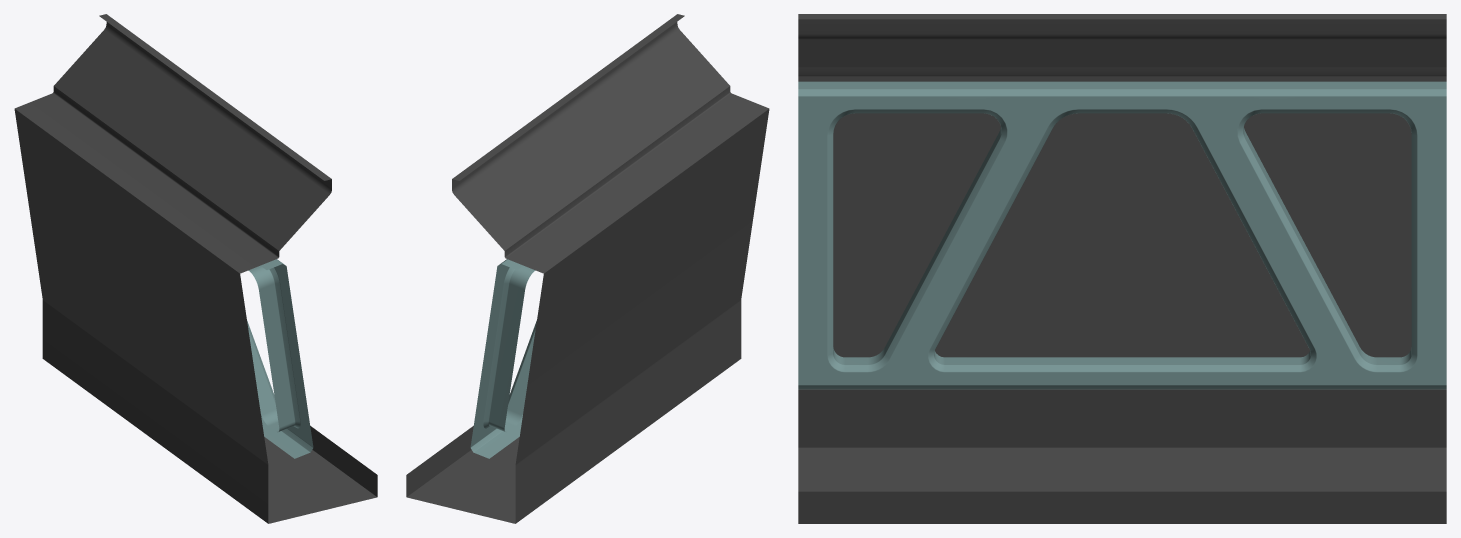
File: WallRangeGeo.fbx
The picture shows the model from 3 angles, left to right: view 1: azimuth 30°, elevation 25°; view 2: azimuth 150°, elevation 25°; view 3: azimuth 270°, elevation 25°; orthographic projection. The views are drawn at different scales.
Visible parts, largest first — view 1: WallRangeGeo; view 2: WallRangeGeo; view 3: WallRangeGeo.
Part boxes in pixels (x1,y1,x2,y2): WallRangeGeo: (14,14,377,523); WallRangeGeo: (406,14,769,523); WallRangeGeo: (798,14,1446,523).
Size of the model in its own units: 141 by 400 by 322.
